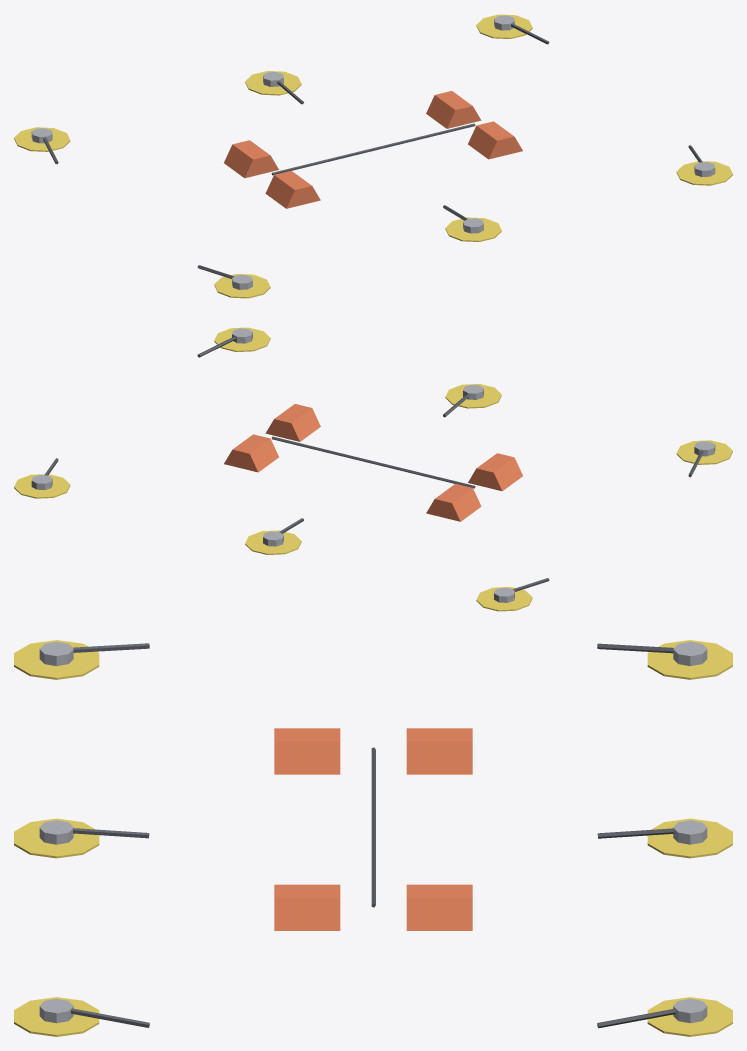
File: aircraft-fleet-and-airfield-tie-down-row-dbc05cd3__32835.glb
3 views of the same model, one above another, from view 1: azimuth 30°, elevation 25°; view 2: azimuth 150°, elevation 25°; view 3: azimuth 270°, elevation 25° (orthographic). The views are drawn at different scales.
Visible parts, largest first — view 1: tie-down-row; view 2: tie-down-row; view 3: tie-down-row.
Part boxes in pixels (x1=…): tie-down-row: x1=14, y1=14, x2=732, y2=298; tie-down-row: x1=14, y1=327, x2=732, y2=611; tie-down-row: x1=14, y1=640, x2=732, y2=1036.
Size of the model in its own units: 7.08 by 0.2201 by 5.45.
